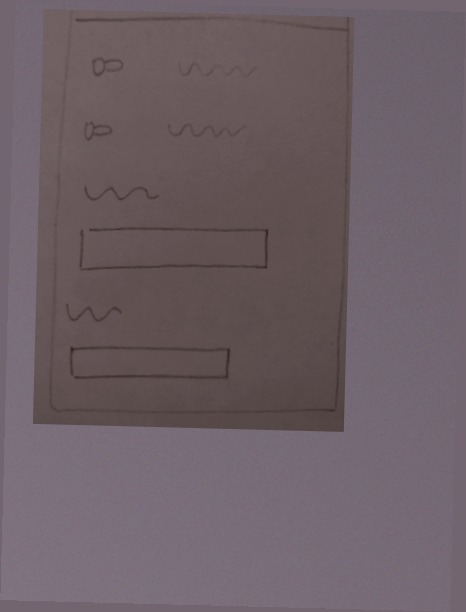switch: (86, 49, 126, 81), (79, 113, 119, 145)
text: (170, 52, 259, 89), (163, 112, 252, 149), (77, 171, 166, 208), (56, 292, 128, 329)
text_input: (72, 218, 276, 281), (65, 339, 234, 385)
